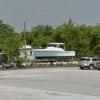Boat: (27, 42, 80, 63)
